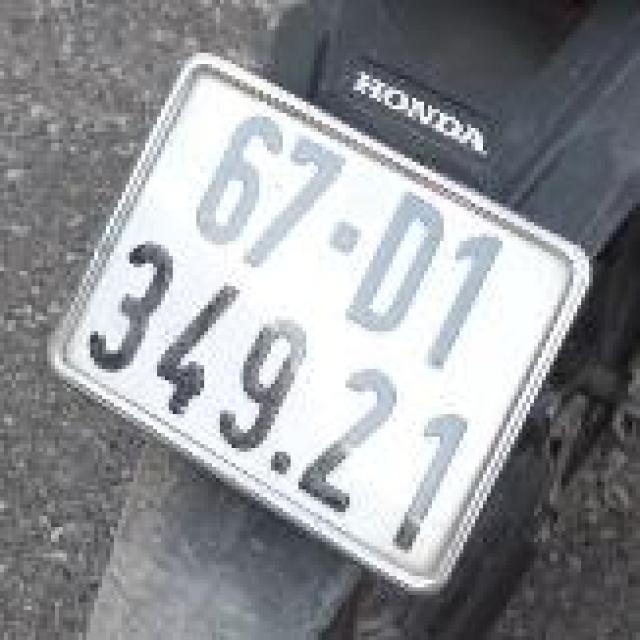1: (400, 215, 541, 389), (359, 393, 494, 570)
2: (281, 348, 434, 532)
3: (66, 222, 197, 385)
4: (126, 262, 275, 436)
6: (182, 104, 298, 262)
7: (228, 124, 363, 283)
9: (187, 294, 337, 471)
D: (335, 181, 468, 357)
